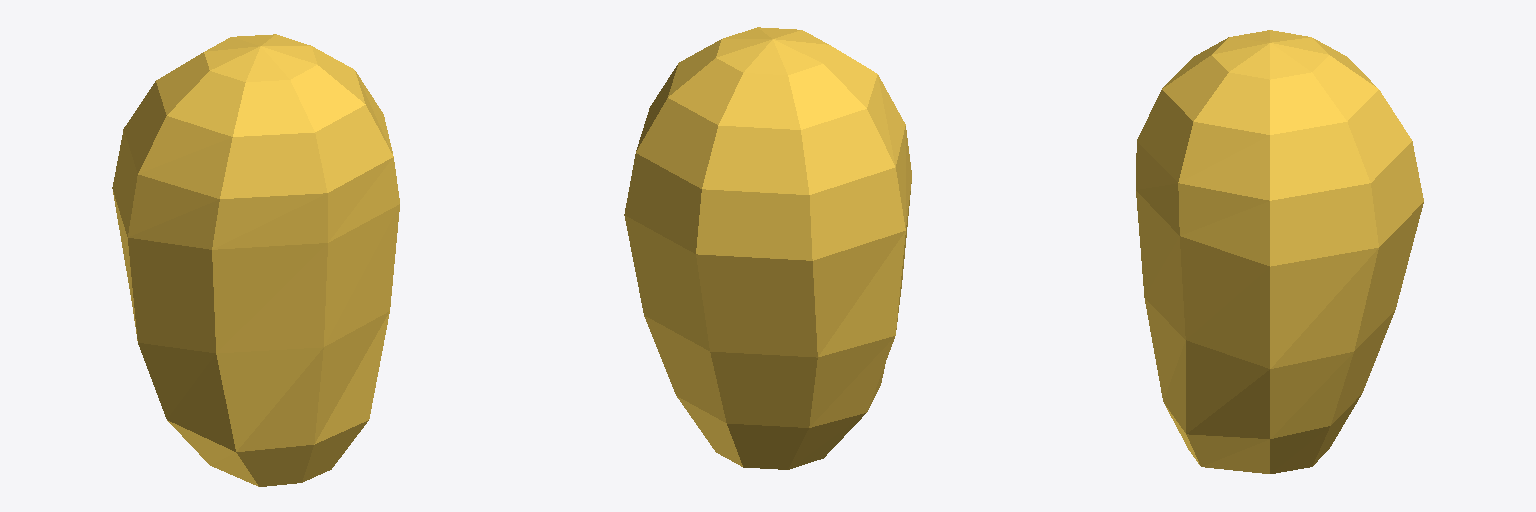
Rendered from head.obj.
3 renders of one model, left to right at view 1: azimuth 30°, elevation 25°; view 2: azimuth 150°, elevation 25°; view 3: azimuth 270°, elevation 25°, orthographic.
Parts seen in each view (by area): view 1: Sphere.008_Sphere.011; view 2: Sphere.008_Sphere.011; view 3: Sphere.008_Sphere.011.
Part boxes in pixels (x1,y1,x2,y2): Sphere.008_Sphere.011: (112, 34, 399, 486); Sphere.008_Sphere.011: (624, 27, 911, 469); Sphere.008_Sphere.011: (1136, 30, 1423, 473).
Bounding box in the file's own units: 1.28 × 1.96 × 1.2.